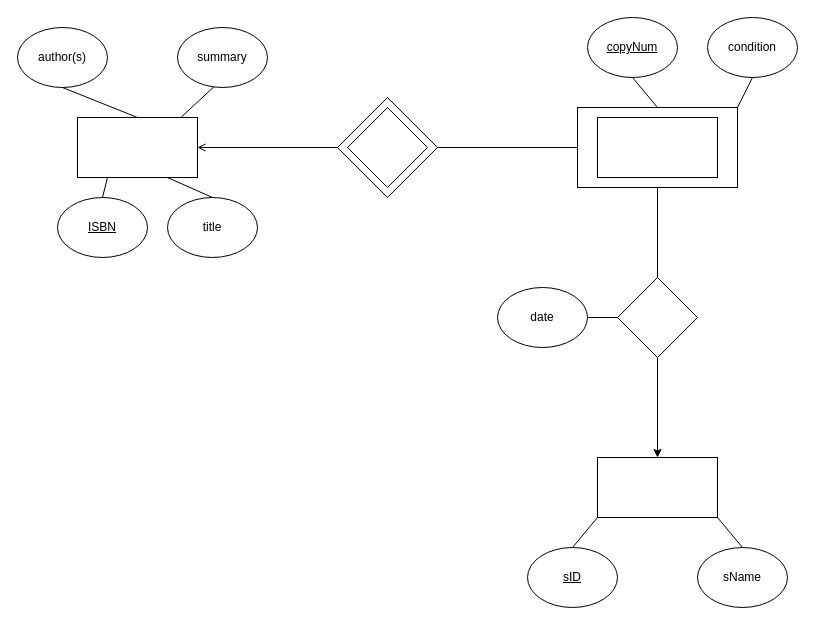
The diagram is 815 pixels wide and 625 high, and some of its shapes have lost their labels. Here are the shapes that lost their labels. From the top down, the centre of each, then its label:
pixel 137 147: Books
pixel 387 147: HAS
pixel 657 147: Copies
pixel 657 317: Checked Out
pixel 657 487: Students
